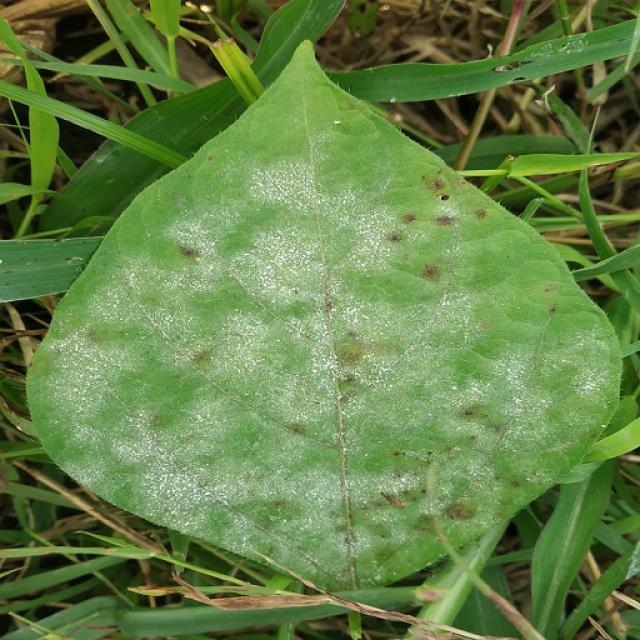Blackgram: (29, 41, 620, 588)
Powdery_Mildew: (117, 393, 236, 507), (308, 166, 422, 282), (338, 281, 451, 398), (64, 246, 177, 363), (463, 317, 580, 421), (223, 452, 341, 549), (225, 321, 328, 426), (48, 323, 138, 420), (394, 259, 485, 339), (237, 219, 318, 300), (352, 445, 432, 512), (446, 364, 509, 421), (259, 164, 308, 207)
